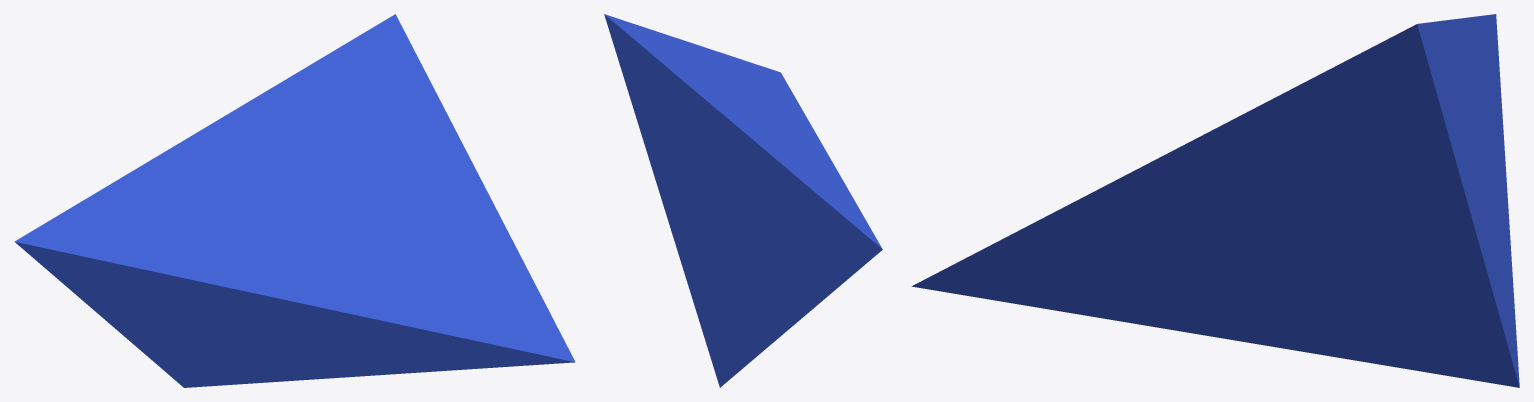
The model's file is carbonhyrate.fbx.
3 renders of one model, left to right at view 1: azimuth 30°, elevation 25°; view 2: azimuth 150°, elevation 25°; view 3: azimuth 270°, elevation 25°, orthographic. The views are drawn at different scales.
Visible parts, largest first — view 1: Quad Sphere; view 2: Quad Sphere; view 3: Quad Sphere.
Boxes of the visible parts, x1,y1,x2,y2 form: Quad Sphere: [14, 14, 575, 387]; Quad Sphere: [604, 14, 882, 387]; Quad Sphere: [911, 14, 1519, 387].
Size of the model in its own units: 185 by 181 by 210.
